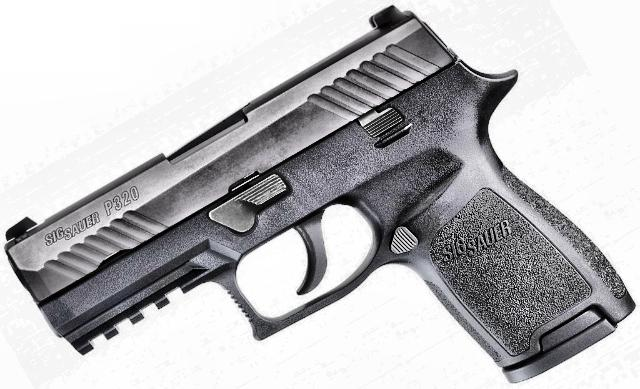pistol: (2, 3, 634, 371)
